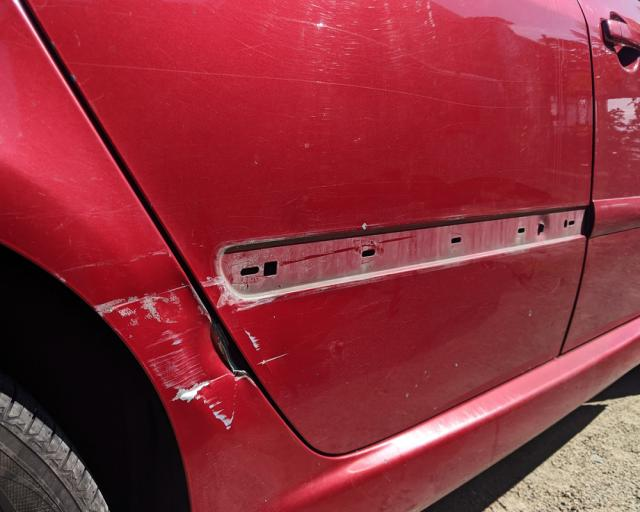scratch: (102, 283, 234, 423), (200, 271, 284, 369)
